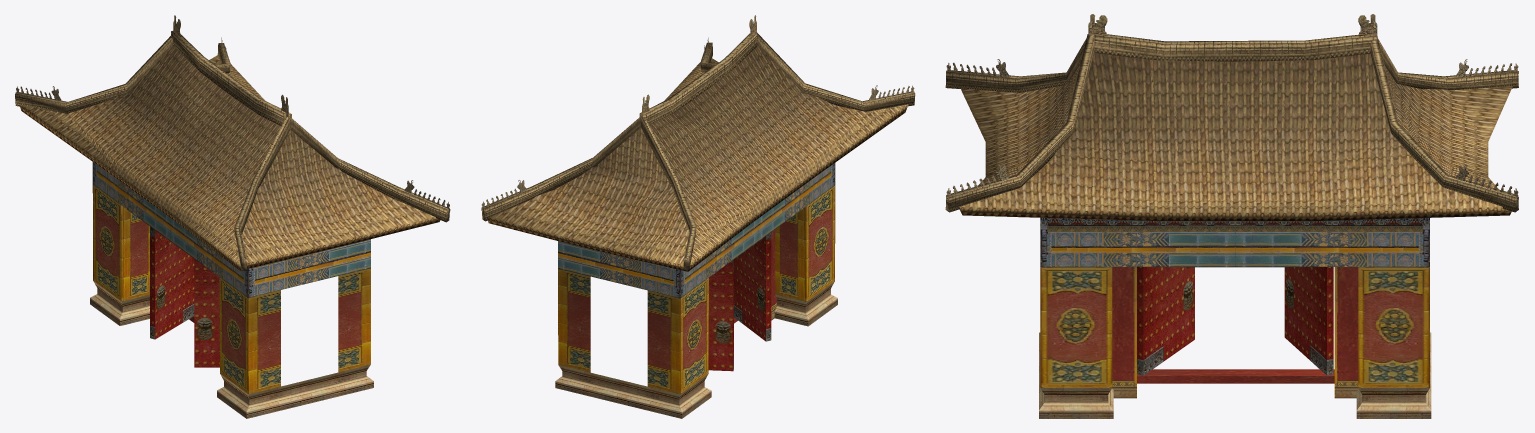
The model's file is cj_pal_sidedoor.glb.
The picture shows the model from 3 angles, left to right: view 1: azimuth 30°, elevation 25°; view 2: azimuth 150°, elevation 25°; view 3: azimuth 270°, elevation 25°; orthographic projection. The views are drawn at different scales.
Parts seen in each view (by area): view 1: CJ_pal_sidedoor_roof01, CJ_pal_sidedoor_wall, CJ_pal_sidedoor_door, CJ_pal_sidedoor_roof03_al; view 2: CJ_pal_sidedoor_roof01, CJ_pal_sidedoor_wall, CJ_pal_sidedoor_door, CJ_pal_sidedoor_roof03_al; view 3: CJ_pal_sidedoor_roof01, CJ_pal_sidedoor_wall, CJ_pal_sidedoor_door, CJ_pal_sidedoor_roof03_al, CJ_pal_sidedoor_roof02_al.
Part boxes in pixels (x1=…): CJ_pal_sidedoor_roof01: x1=15, y1=30, x2=449, y2=270; CJ_pal_sidedoor_wall: x1=90, y1=162, x2=373, y2=418; CJ_pal_sidedoor_door: x1=150, y1=226, x2=219, y2=367; CJ_pal_sidedoor_roof03_al: x1=15, y1=37, x2=450, y2=258; CJ_pal_sidedoor_roof01: x1=481, y1=32, x2=915, y2=271; CJ_pal_sidedoor_wall: x1=555, y1=163, x2=837, y2=418; CJ_pal_sidedoor_door: x1=708, y1=232, x2=771, y2=371; CJ_pal_sidedoor_roof03_al: x1=481, y1=37, x2=914, y2=261; CJ_pal_sidedoor_roof01: x1=945, y1=34, x2=1518, y2=221; CJ_pal_sidedoor_wall: x1=1039, y1=217, x2=1431, y2=418; CJ_pal_sidedoor_door: x1=1137, y1=267, x2=1333, y2=375; CJ_pal_sidedoor_roof03_al: x1=946, y1=59, x2=1518, y2=202; CJ_pal_sidedoor_roof02_al: x1=1088, y1=14, x2=1377, y2=36.
Bounding box in the file's own units: 8.27 × 11 × 15.74.
5 materials, 5 textured.
